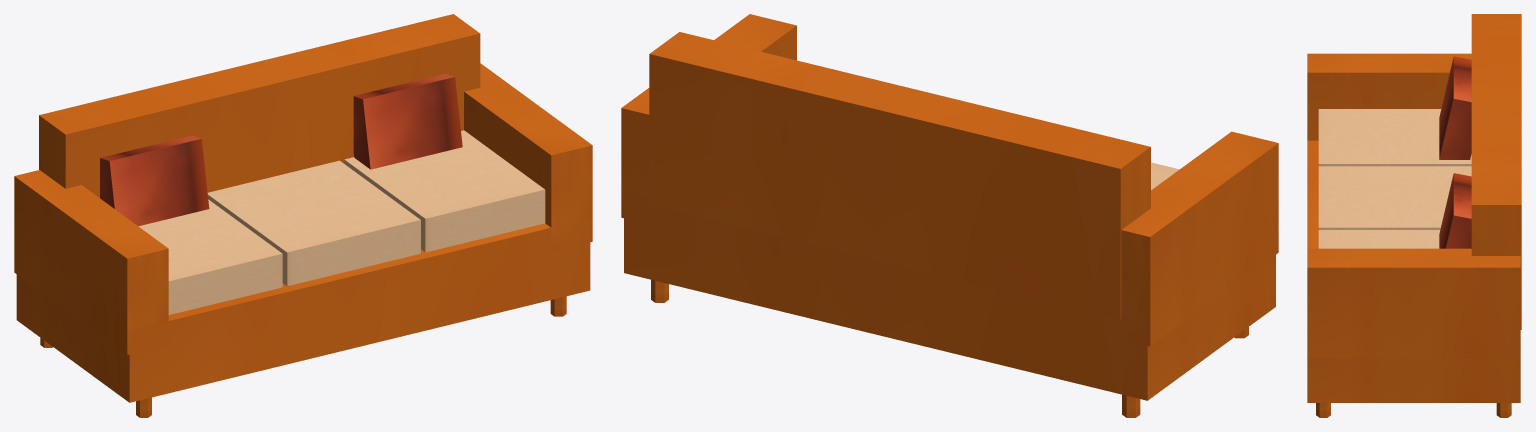
The model's file is Sofa.fbx.
3 renders of one model, left to right at view 1: azimuth 30°, elevation 25°; view 2: azimuth 150°, elevation 25°; view 3: azimuth 270°, elevation 25°, orthographic. The views are drawn at different scales.
Visible parts, largest first — view 1: Sofa; view 2: Sofa; view 3: Sofa.
Boxes of the visible parts, x1,y1,x2,y2 form: Sofa: [14, 14, 592, 417]; Sofa: [621, 14, 1278, 417]; Sofa: [1307, 14, 1521, 417].
Bounding box in the file's own units: 2.02 × 0.925 × 0.855.
